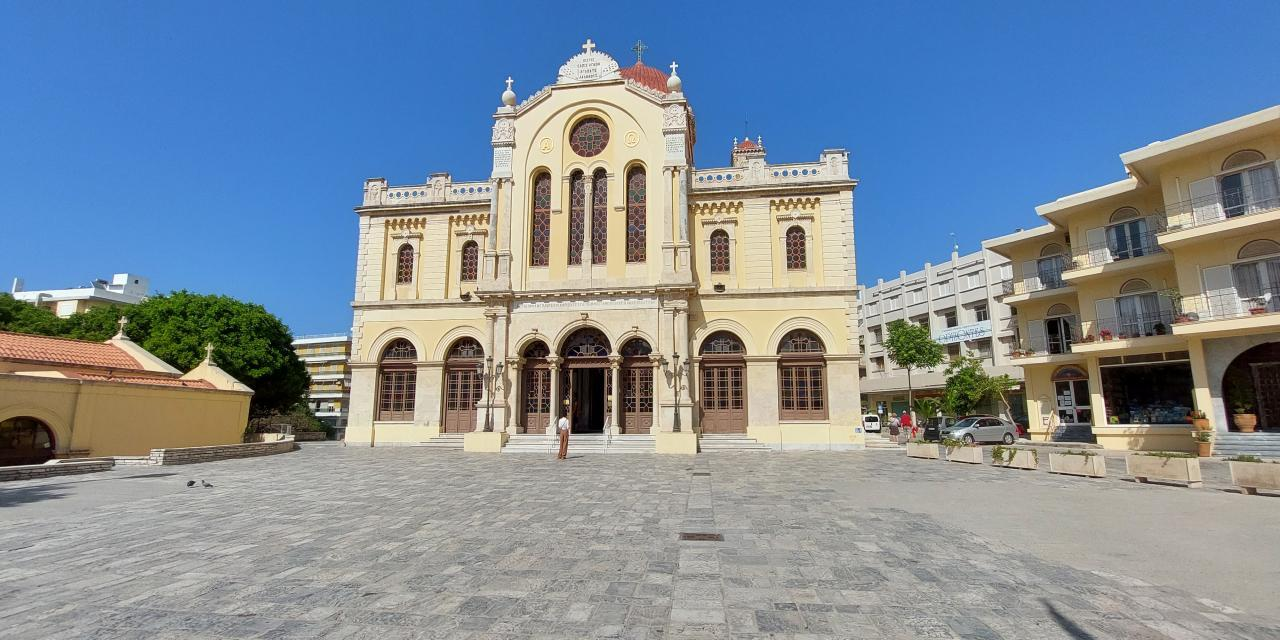Agios Minas: (332, 26, 871, 456)
